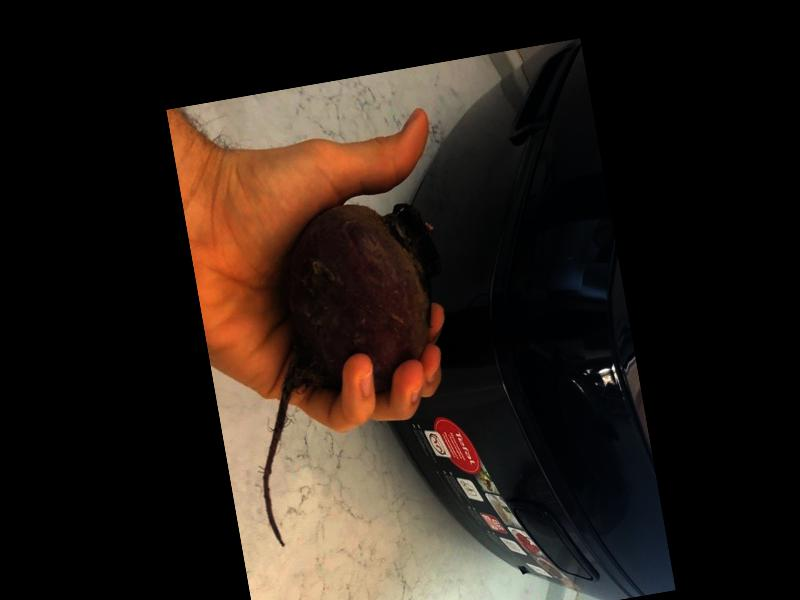Beet: (216, 191, 483, 549)
